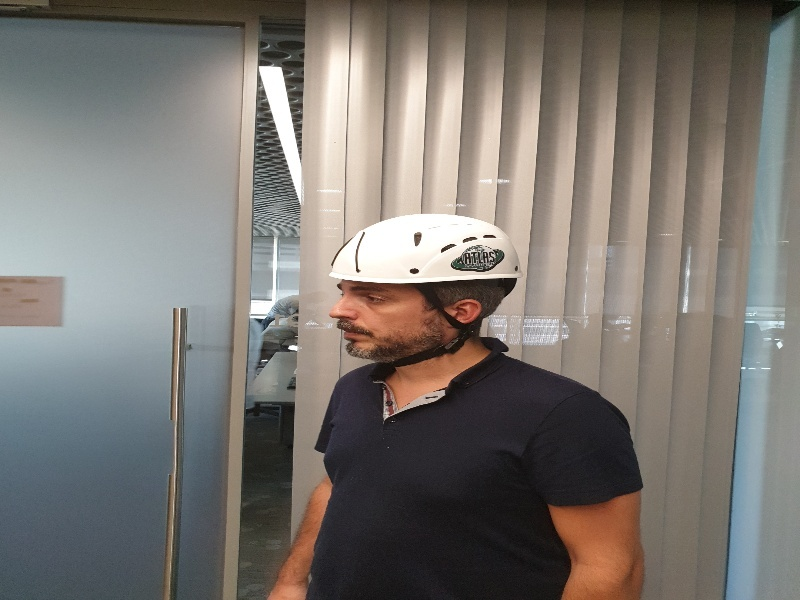Baret: (327, 213, 532, 282)
